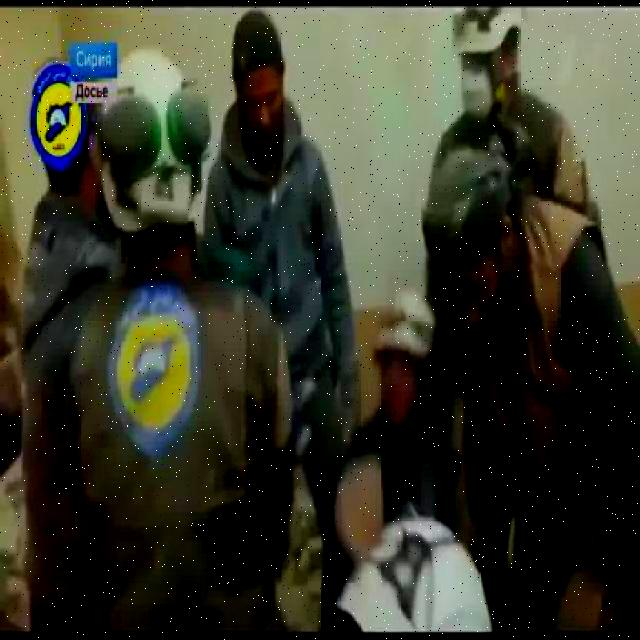Helmet: (336, 507, 494, 640), (98, 43, 200, 237), (368, 290, 434, 368), (452, 0, 526, 55)
